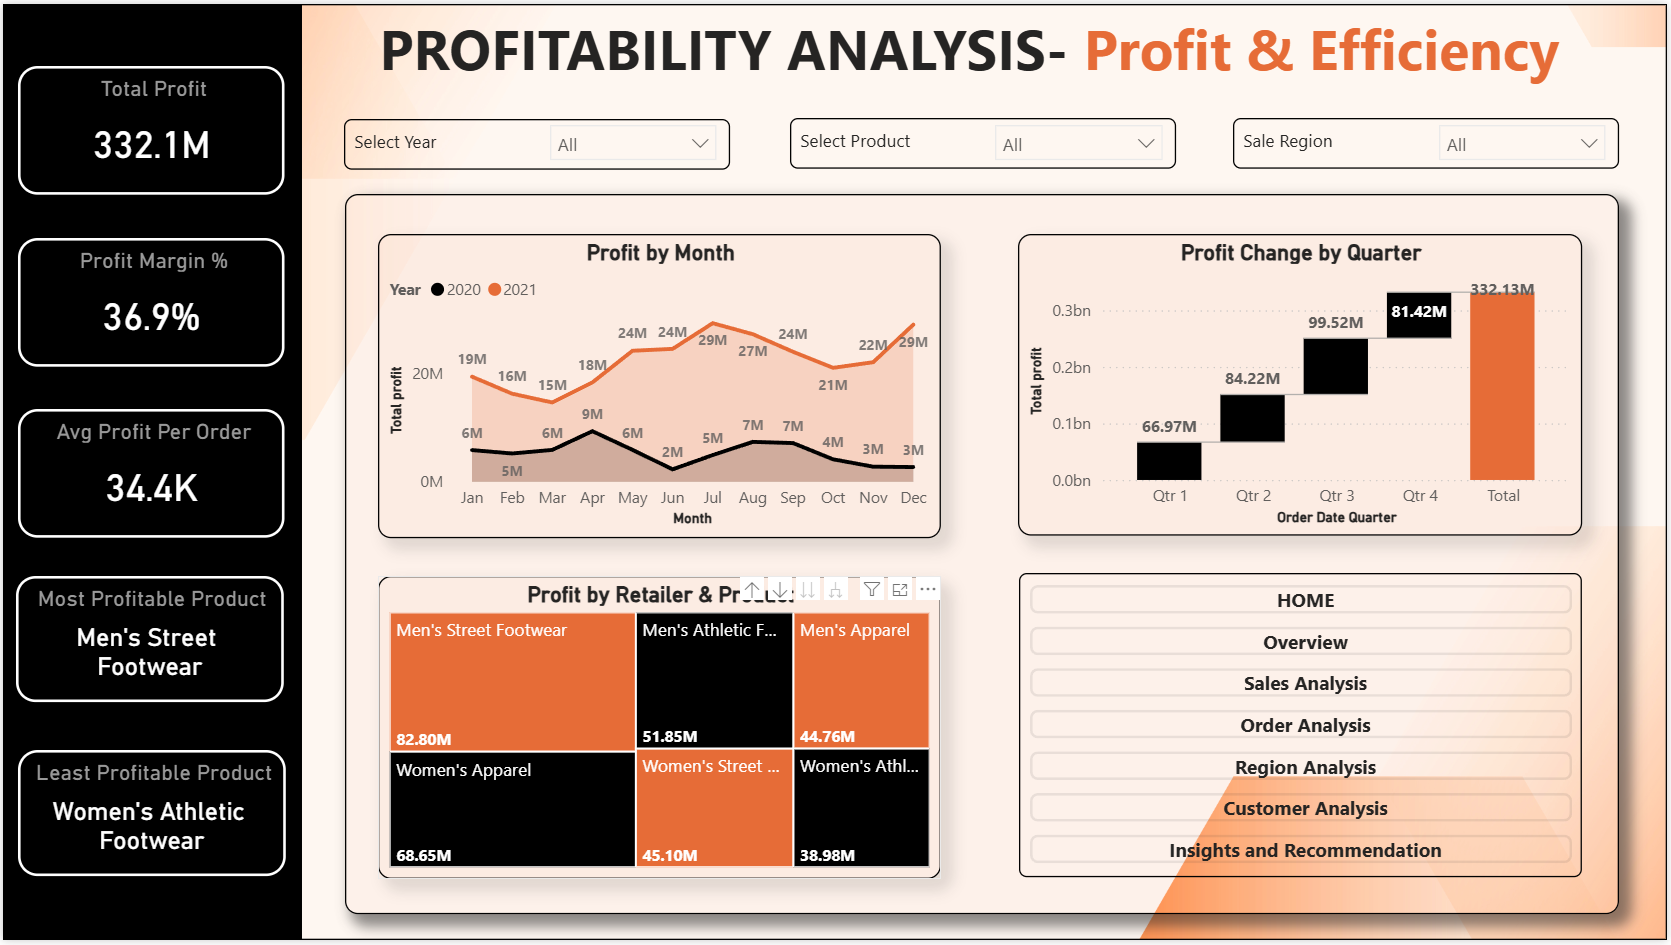

The page's visual inventory and layout, read from the dashboard file:
{"tool":"powerbi","page":{"name":"Profitability Analysis","canvas":[1280,720],"ordinal":4},"visuals":[{"type":"textbox","box":[0,0,1280.3,720],"z":0},{"type":"textbox","box":[284.7,0,990.5,78.4],"z":1000},{"type":"textbox","box":[263,146,980.2,554.2],"z":2000},{"type":"textbox","box":[0,0,230,719.8],"z":3000},{"type":"card","title":"Total Profit","fields":{"Values":["Sum(Data Sales Adidas.Profit)"]},"box":[11.4,47.9,205.3,98.8],"z":4000},{"type":"card","title":"Profit Margin %","fields":{"Values":["Data Sales Adidas.Profit Margin 2 %"]},"box":[11.4,179.8,205.3,98.8],"z":5000},{"type":"card","title":"Avg Profit Per Order","fields":{"Values":["Avg(Data Sales Adidas.Profit)"]},"box":[11.4,311.8,205.3,98.8],"z":6000},{"type":"card","title":"Most Profitable Product","fields":{"Values":["Min(Data Sales Adidas.Product)"]},"box":[10.2,440,205.7,97.2],"z":7000},{"type":"waterfallChart","title":"Profit Change by Quarter","fields":{"Category":["Data Sales Adidas.Order Date.Variation.Date Hierarchy.Quarter"],"Y":["Sum(Data Sales Adidas.Profit)"]},"box":[780.8,176.9,433.7,232.2],"z":8000},{"type":"treemap","title":"Profit by Retailer & Product","fields":{"Group":["Data Sales Adidas.Retailer","Data Sales Adidas.Product"],"Values":["Sum(Data Sales Adidas.Profit)"]},"box":[288.3,440,433.3,233],"z":9000},{"type":"lineChart","title":"Profit by Month","fields":{"Category":["Data Sales Adidas.EXTRACTED MONTH"],"Y":["Sum(Data Sales Adidas.Profit)"],"Series":["Data Sales Adidas.Order Date.Variation.Date Hierarchy.Year"]},"box":[288.8,177.2,433.1,233.6],"z":10000},{"type":"textbox","box":[262.5,88.3,296.7,39.2],"z":11000},{"type":"textbox","box":[605.1,87.9,296.6,39.4],"z":12000},{"type":"textbox","box":[946.4,87.9,296.6,39.4],"z":13000},{"type":"slicer","fields":{"Values":["Data Sales Adidas.Order Date.Variation.Date Hierarchy.Year"]},"box":[410.8,83.1,148.5,48.5],"z":14000},{"type":"slicer","fields":{"Values":["Data Sales Adidas.Product"]},"box":[753.1,83.1,149.2,43.8],"z":15000},{"type":"slicer","fields":{"Values":["Data Sales Adidas.Region"]},"box":[1094.6,83.1,148.5,46.2],"z":16000},{"type":"card","title":"Least Profitable Product","fields":{"Values":["Min(Data Sales Adidas.Product)"]},"box":[11.3,574,205.7,97.2],"z":17000},{"type":"textbox","box":[781.7,437.4,433.1,234.2],"z":18000},{"type":"pageNavigator","box":[790.2,447,417,216],"z":19000}]}

Visuals, with their boxes in screenshot pixels (x1, y1, x2, y2), scaled from the page's 1280x720 canvas onto the 1671x945 screenshot:
textbox: 0 0 1670 944
textbox: 372 0 1665 103
textbox: 343 192 1623 919
textbox: 0 0 300 944
"Total Profit" card: 15 63 283 193
"Profit Margin %" card: 15 236 283 366
"Avg Profit Per Order" card: 15 409 283 539
"Most Profitable Product" card: 13 578 282 705
"Profit Change by Quarter" waterfallChart: 1019 232 1585 537
"Profit by Retailer & Product" treemap: 376 578 942 883
"Profit by Month" lineChart: 377 233 942 539
textbox: 343 116 730 167
textbox: 790 115 1177 167
textbox: 1235 115 1623 167
slicer - Data Sales Adidas.Order Date.Variation.Date Hierarchy.Year: 536 109 730 173
slicer - Data Sales Adidas.Product: 983 109 1178 167
slicer - Data Sales Adidas.Region: 1429 109 1623 170
"Least Profitable Product" card: 15 753 283 881
textbox: 1020 574 1586 881
pageNavigator: 1032 587 1576 870
